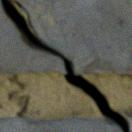broken_brick: (13, 0, 131, 74), (0, 0, 65, 73), (0, 116, 121, 131), (127, 118, 131, 131)
crack: (1, 0, 129, 131)
